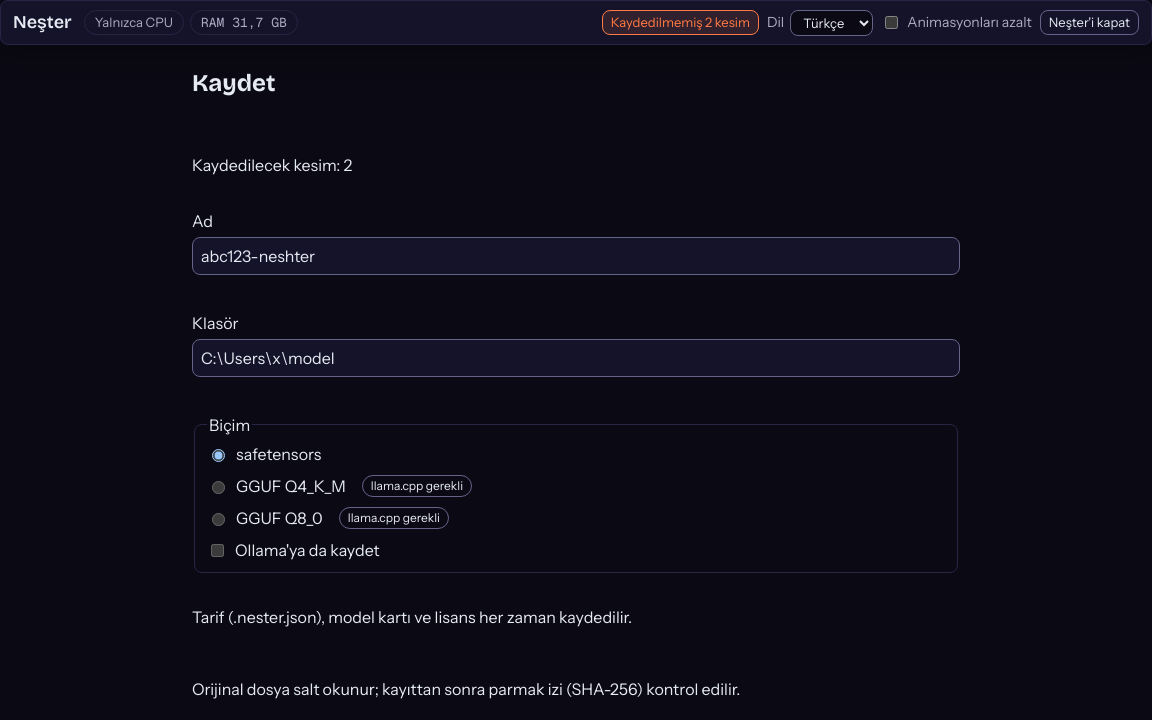
Test case: export body uses savable ops and joined out_dir
Expected: the field labelled "Ad" holds "abc123-neshter", [192,237,960,275]
Replace the text in the field labelled "Klasör" with "D:\\Modeller" at (576, 358), box [192,339,960,377]
(page scrolled)
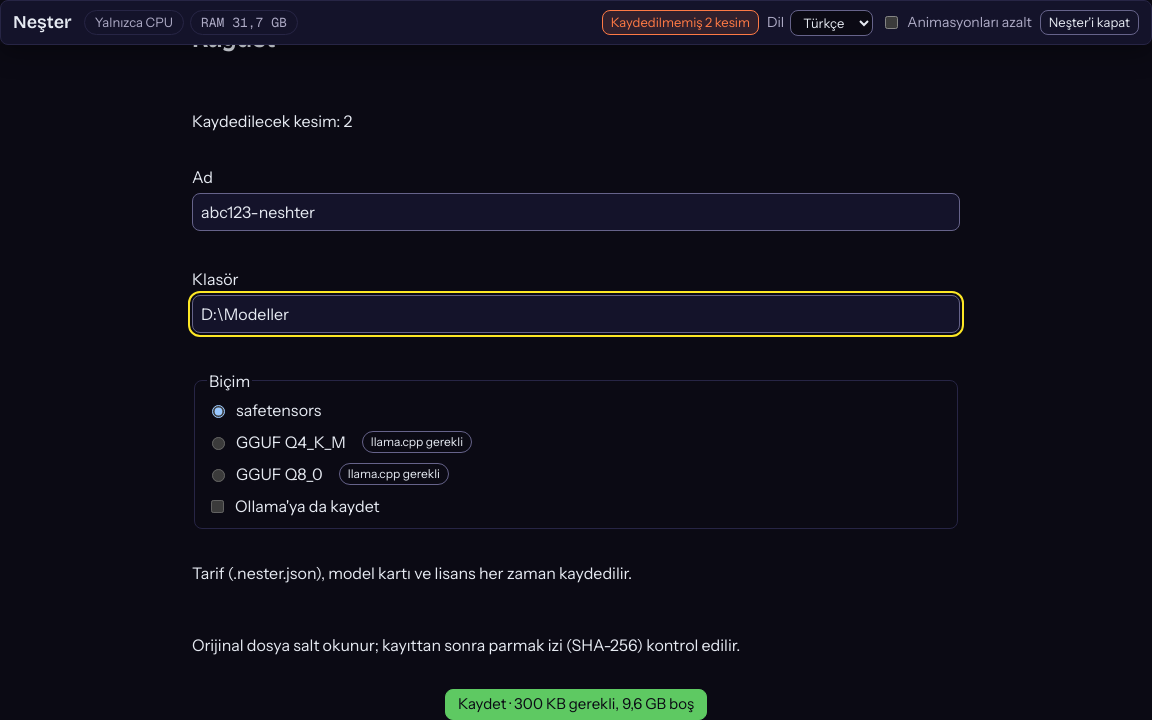
Expected: the button "Kaydet · 300 KB gerekli, 9,6 GB boş" is shown
Click the button "Kaydet · 300 KB gerekli, 9,6 GB boş" at (576, 705), box [445,689,707,719]
(page scrolled)
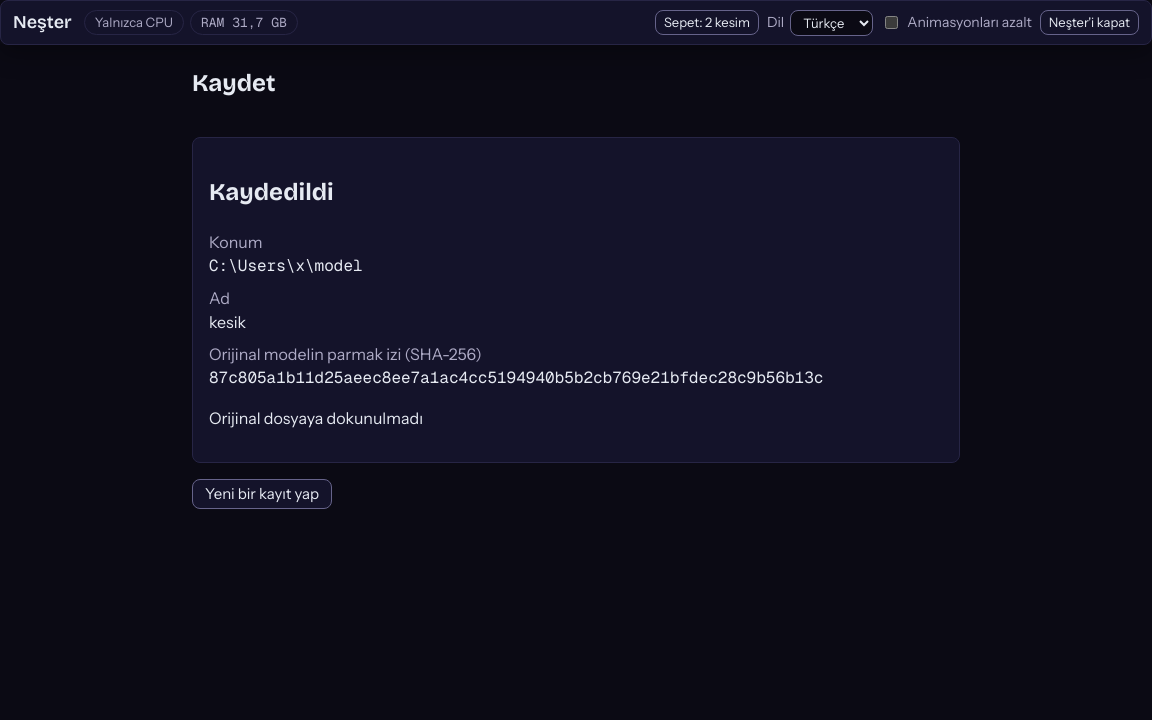
Expected: the heading "Kaydedildi" is shown, [209,178,334,206]
